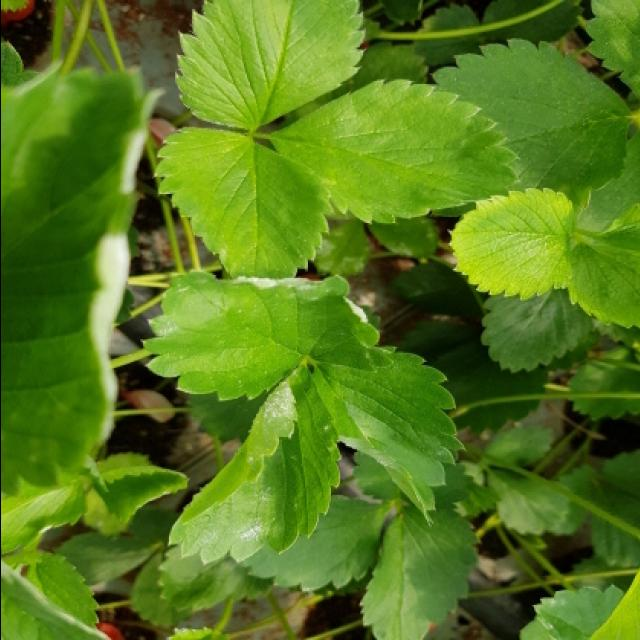Powdery Mildew Leaf: (165, 359, 343, 565), (140, 266, 395, 403), (308, 345, 466, 526)
